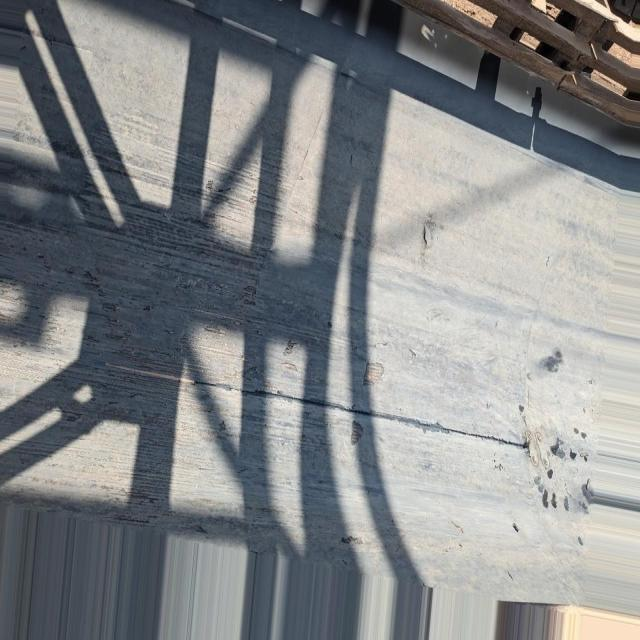Tear: (189, 370, 523, 454), (417, 214, 445, 252), (360, 356, 387, 390)
patch work: (522, 426, 555, 477)
